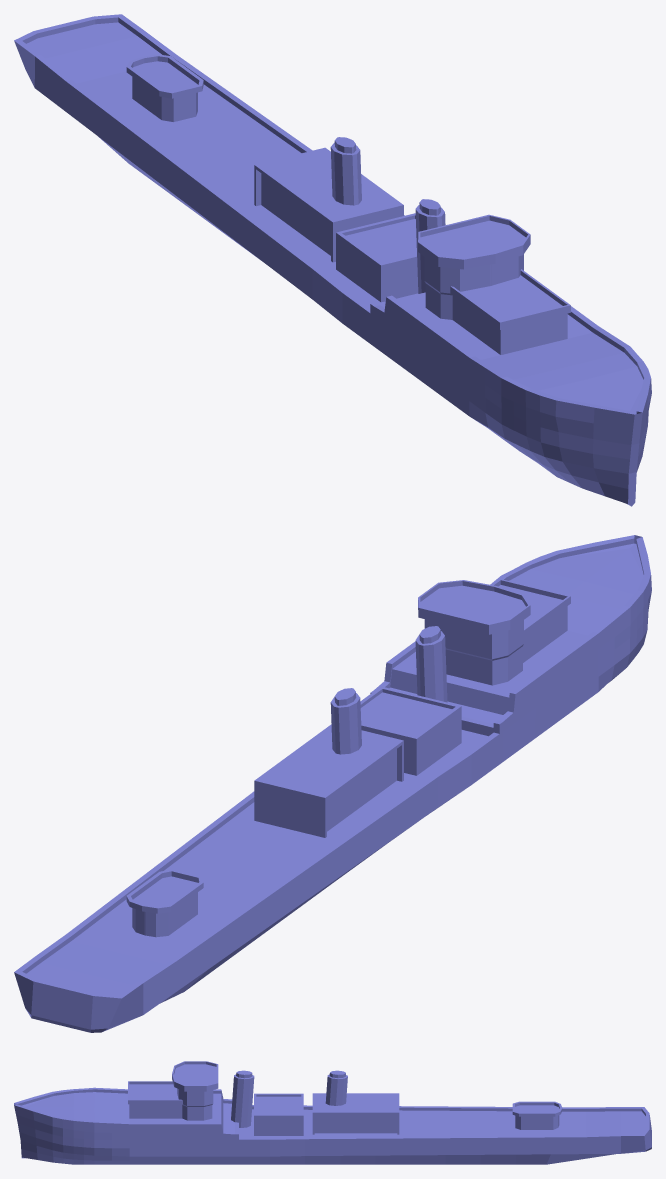
File: a_class_destroyer_hull.fbx
3 views of the same model, one above another, from view 1: azimuth 30°, elevation 25°; view 2: azimuth 150°, elevation 25°; view 3: azimuth 270°, elevation 25° (orthographic). The views are drawn at different scales.
Parts seen in each view (by area): view 1: AClassDestroyerHull; view 2: AClassDestroyerHull; view 3: AClassDestroyerHull.
Part boxes in pixels (x1,y1,x2,y2): AClassDestroyerHull: (14,14,651,506); AClassDestroyerHull: (14,535,651,1032); AClassDestroyerHull: (14,1061,651,1164).
Bounding box in the file's own units: 1296 × 1501 × 10031.
